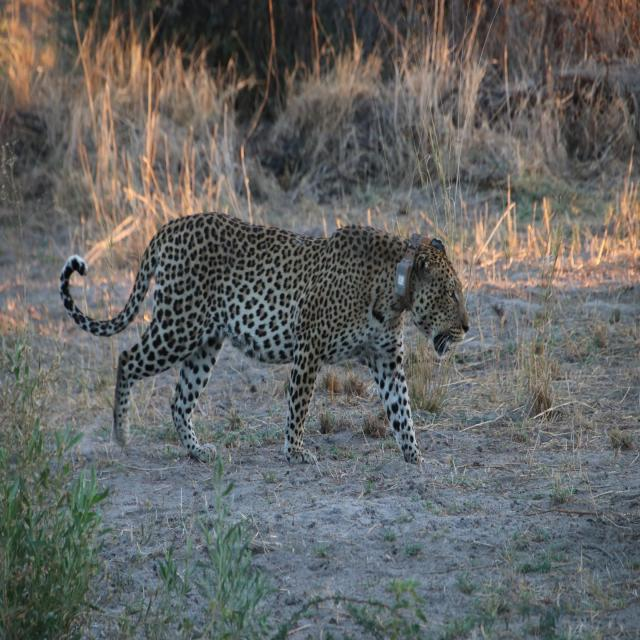Leopard: (62, 209, 470, 466)
